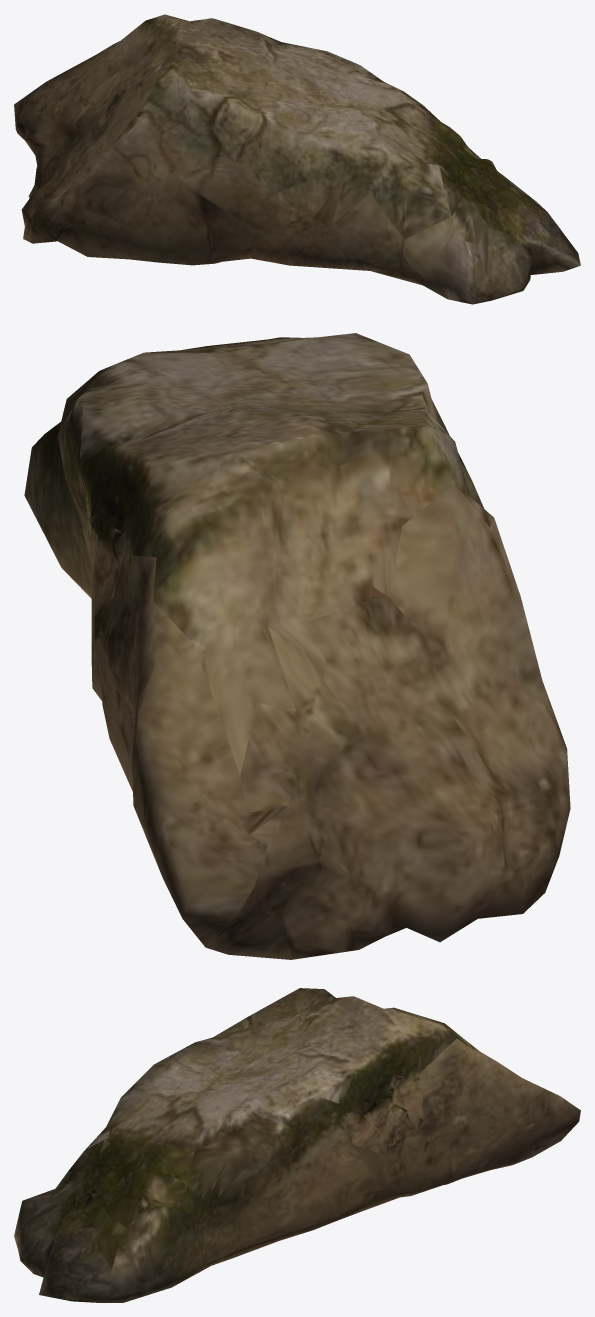
Rendered from rocks_2.gltf.
3 renders of one model, top to bottom at view 1: azimuth 30°, elevation 25°; view 2: azimuth 150°, elevation 25°; view 3: azimuth 270°, elevation 25°, orthographic. The views are drawn at different scales.
Parts seen in each view (by area): view 1: rock_moss_set_01_rock02; view 2: rock_moss_set_01_rock02; view 3: rock_moss_set_01_rock02.
Boxes of the visible parts, x1=… form: rock_moss_set_01_rock02: x1=14, y1=14, x2=580, y2=304; rock_moss_set_01_rock02: x1=24, y1=333, x2=570, y2=959; rock_moss_set_01_rock02: x1=14, y1=988, x2=580, y2=1302.
Bounding box in the file's own units: 2.65 × 1.25 × 3.27.
1 material, 1 textured.
